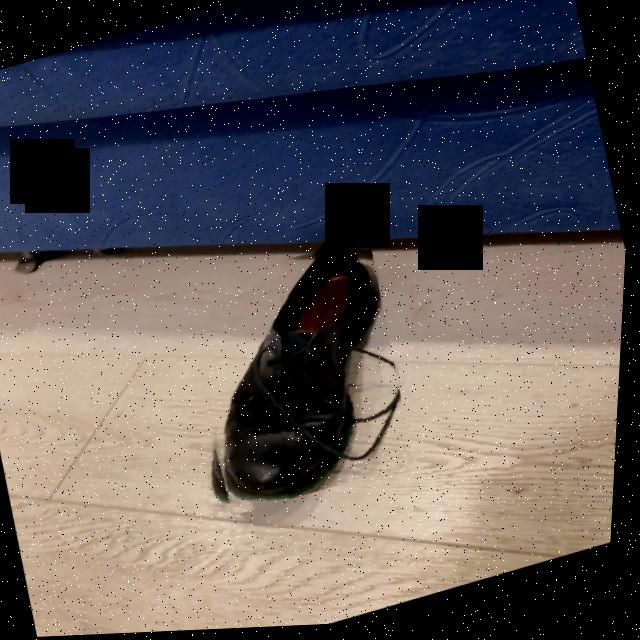shoe: (225, 248, 385, 506)
